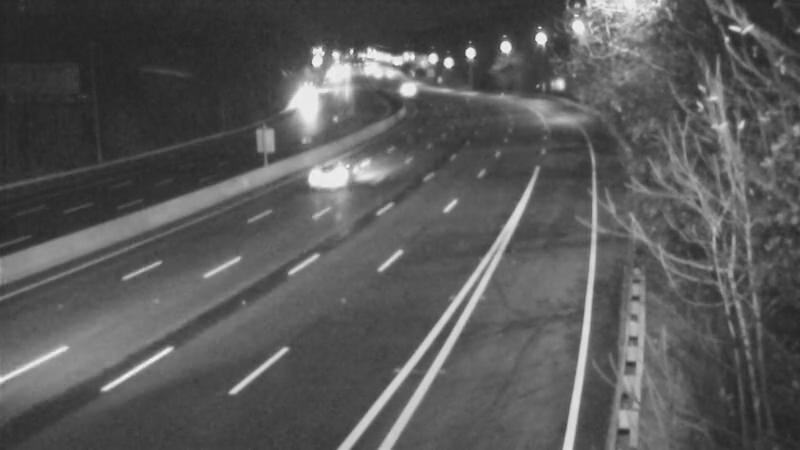vehicle: (294, 135, 374, 215), (382, 62, 432, 112)
